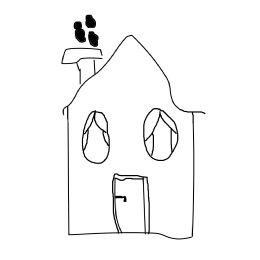door: (109, 169, 154, 242)
open_window: (138, 108, 183, 165), (77, 107, 114, 170)
single_line_roof: (52, 30, 214, 115)
smoking_chimney: (55, 13, 110, 83)
wall: (59, 109, 201, 243)
